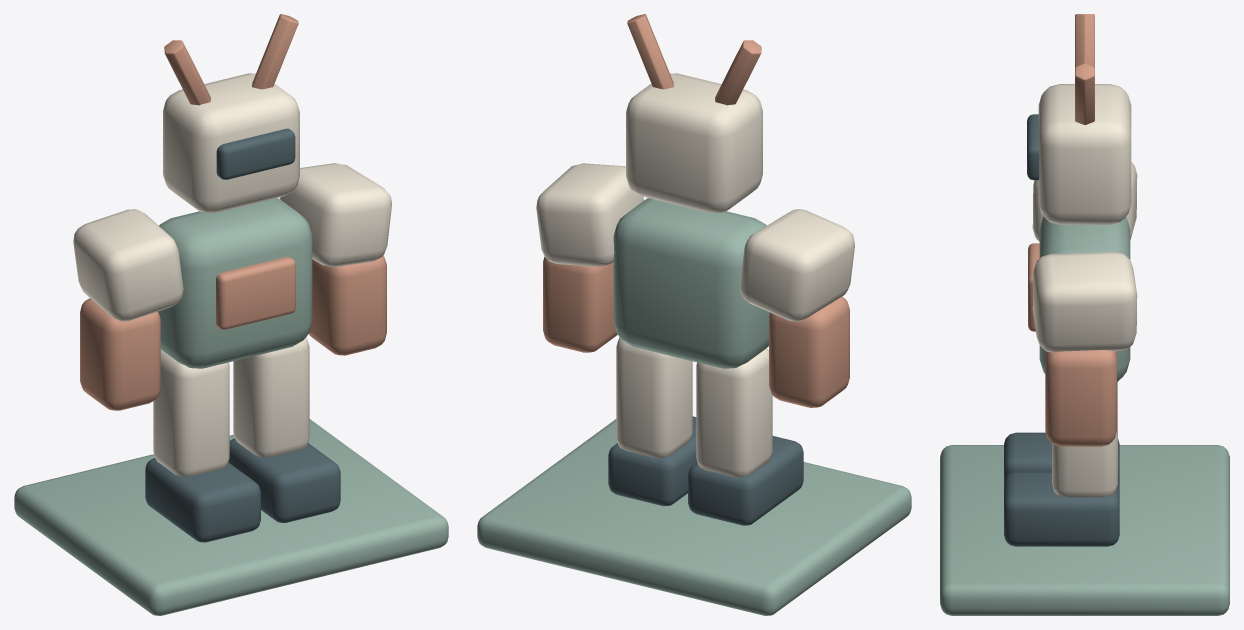
File: mecha-figurine.glb
3 renders of one model, left to right at view 1: azimuth 30°, elevation 25°; view 2: azimuth 150°, elevation 25°; view 3: azimuth 270°, elevation 25°, orthographic.
Parts seen in each view (by area): view 1: mecha-figurine; view 2: mecha-figurine; view 3: mecha-figurine.
Boxes of the visible parts, x1,y1,x2,y2 form: mecha-figurine: (14,14,448,615); mecha-figurine: (477,14,911,615); mecha-figurine: (940,14,1229,615).
Bounding box in the file's own units: 0.18 × 0.29 × 0.15.
